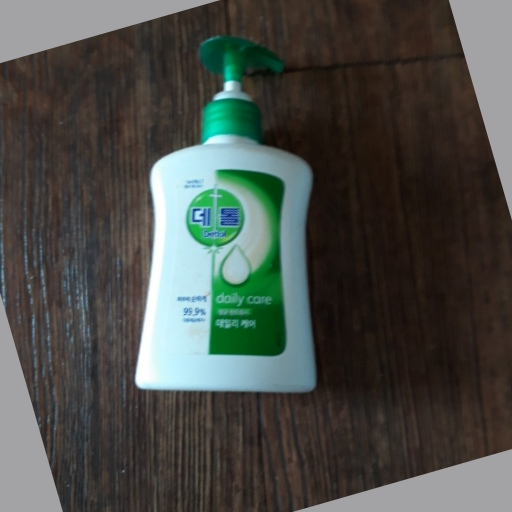Plastic_3: (130, 35, 321, 398)
